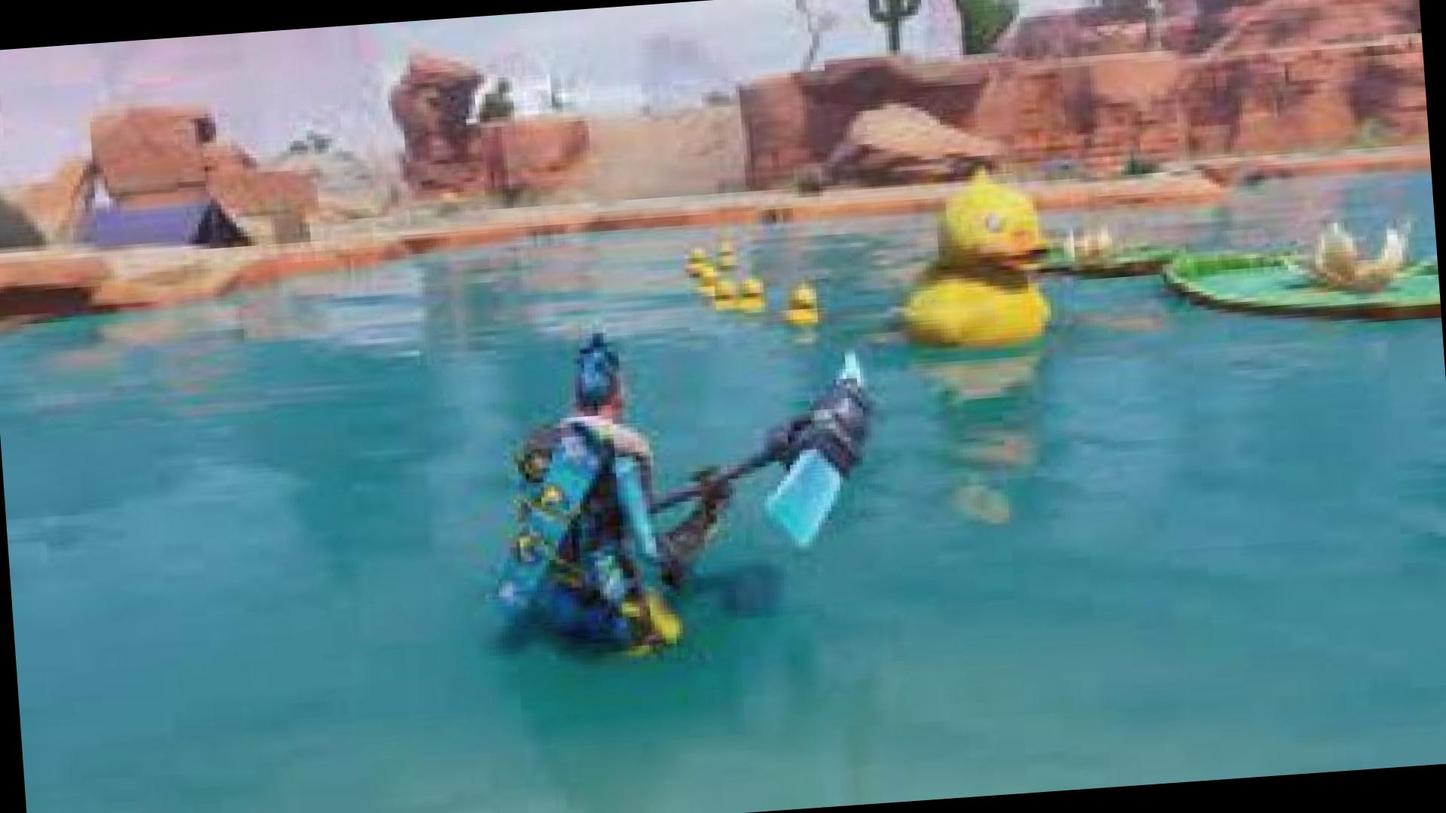player: (490, 355, 700, 732)
